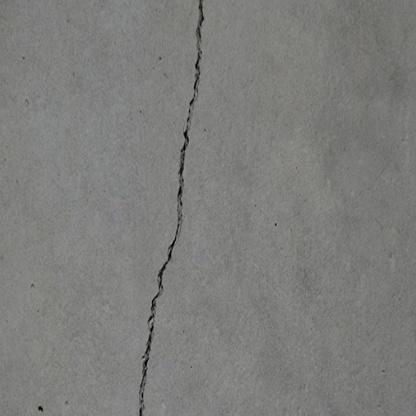Cracks: (135, 0, 210, 416)
